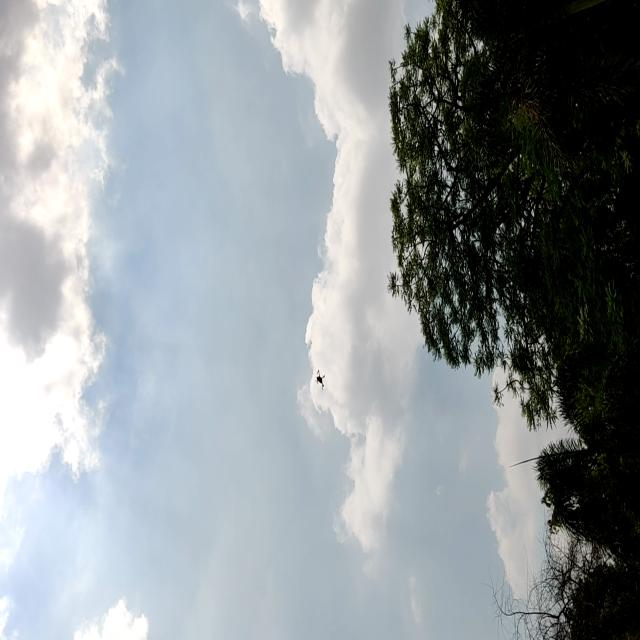drone: (308, 359, 328, 398)
